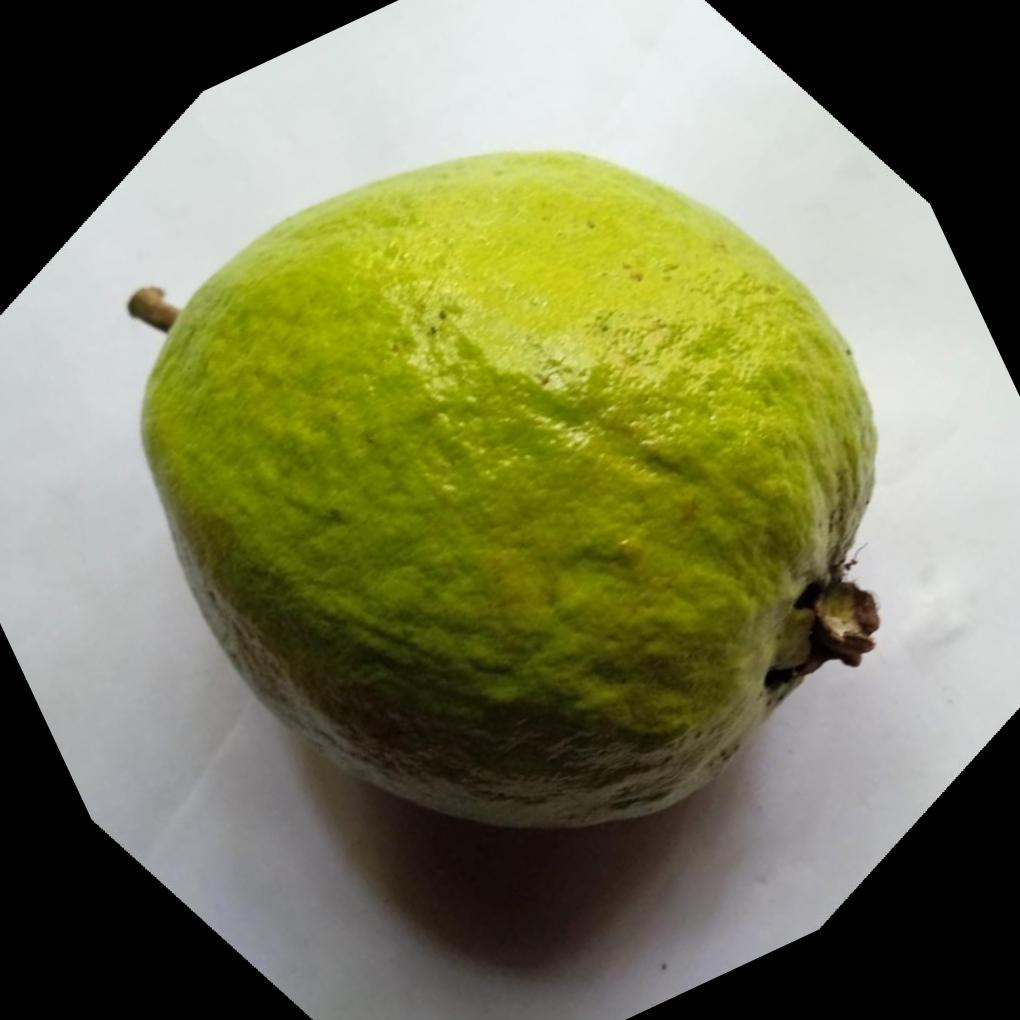FreshGuava: (139, 150, 881, 835)
